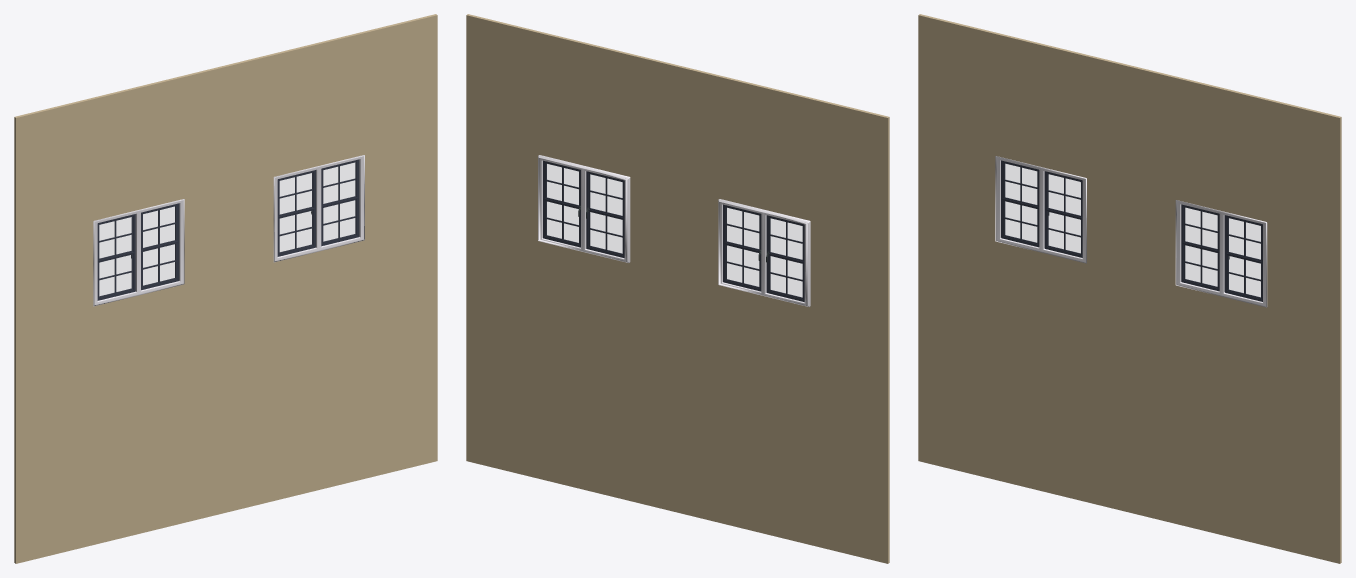
The model's file is wallS.fbx.
The picture shows the model from 3 angles, left to right: view 1: azimuth 30°, elevation 25°; view 2: azimuth 150°, elevation 25°; view 3: azimuth 330°, elevation 25°; orthographic projection.
Parts seen in each view (by area): view 1: wallS, glassR, glassL, innerframeR, innerframeL, outerframeL, outerframeR; view 2: wallS, glassL, glassR, innerframeR, innerframeL, outerframeR, outerframeL; view 3: wallS, glassL, glassR, innerframeL, innerframeR, outerframeL, outerframeR.
Part boxes in pixels (bbox=[...]): wallS: bbox=[14, 14, 437, 563]; glassR: bbox=[100, 207, 174, 295]; glassL: bbox=[280, 163, 354, 251]; innerframeR: bbox=[97, 203, 179, 300]; innerframeL: bbox=[277, 159, 359, 256]; outerframeL: bbox=[273, 155, 364, 262]; outerframeR: bbox=[93, 199, 184, 306]; wallS: bbox=[466, 14, 889, 563]; glassL: bbox=[547, 164, 621, 252]; glassR: bbox=[727, 208, 801, 296]; innerframeR: bbox=[723, 204, 804, 301]; innerframeL: bbox=[543, 160, 624, 258]; outerframeR: bbox=[718, 199, 810, 306]; outerframeL: bbox=[538, 155, 630, 262]; wallS: bbox=[918, 14, 1341, 563]; glassL: bbox=[1185, 208, 1260, 296]; glassR: bbox=[1005, 164, 1080, 252]; innerframeL: bbox=[1181, 204, 1262, 301]; innerframeR: bbox=[1001, 160, 1082, 257]; outerframeL: bbox=[1175, 200, 1267, 307]; outerframeR: bbox=[995, 156, 1086, 263].
Bounding box in the file's own units: 511 × 517 × 8.46.
